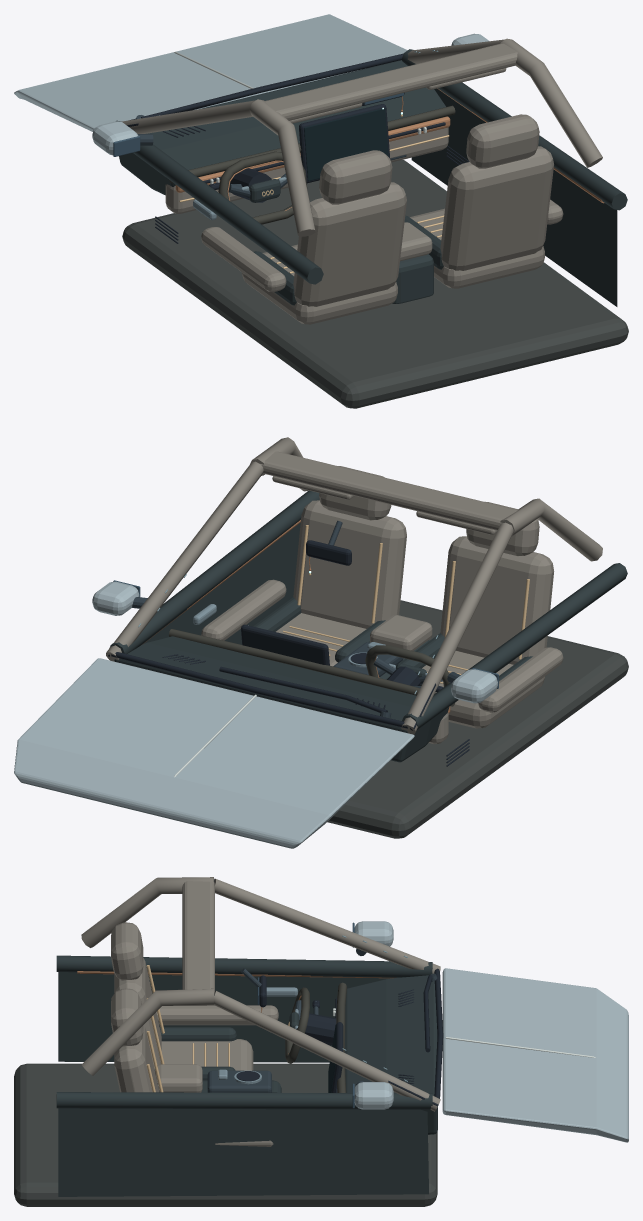
Rendered from cockpit.glb.
3 renders of one model, top to bottom at view 1: azimuth 30°, elevation 25°; view 2: azimuth 150°, elevation 25°; view 3: azimuth 270°, elevation 25°, orthographic. The views are drawn at different scales.
Visible parts, largest first — view 1: 14 · warm shale upholstery, 17 · slate floor carpet, 16 · deep spruce dashboard, 01 · satin rain silver, 04 · graphite rubber, 18 · sleeping LCD, 20 · wheel leather, 13 · cinnamon woven trim, 09 · evening sky on glazing; view 2: 14 · warm shale upholstery, 01 · satin rain silver, 16 · deep spruce dashboard, 17 · slate floor carpet, 04 · graphite rubber, 20 · wheel leather, 15 · wheat stitching, 07 · midnight gunmetal; view 3: 16 · deep spruce dashboard, 01 · satin rain silver, 14 · warm shale upholstery, 17 · slate floor carpet, 04 · graphite rubber, 07 · midnight gunmetal, 20 · wheel leather, 15 · wheat stitching, 02 · lower folded aluminium, 13 · cinnamon woven trim.
Boxes of the visible parts, x1,y1,x2,y2 form: 14 · warm shale upholstery: (121,38,602,324); 17 · slate floor carpet: (122,160,628,408); 16 · deep spruce dashboard: (116,49,627,306); 01 · satin rain silver: (14,14,489,155); 04 · graphite rubber: (127,53,469,243); 18 · sleeping LCD: (304,108,388,181); 20 · wheel leather: (169,105,455,224); 13 · cinnamon woven trim: (175,88,604,210); 09 · evening sky on glazing: (113,93,403,156); 14 · warm shale upholstery: (106,437,602,744); 01 · satin rain silver: (14,581,497,848); 16 · deep spruce dashboard: (109,490,627,762); 17 · slate floor carpet: (327,600,628,838); 04 · graphite rubber: (106,540,469,766); 20 · wheel leather: (169,629,454,706); 15 · wheat stitching: (283,525,529,683); 07 · midnight gunmetal: (132,520,460,717); 16 · deep spruce dashboard: (56,955,437,1196); 01 · satin rain silver: (354,921,628,1142); 14 · warm shale upholstery: (81,877,440,1146); 17 · slate floor carpet: (14,1063,437,1206); 04 · graphite rubber: (214,880,443,1106); 07 · midnight gunmetal: (207,948,437,1092); 20 · wheel leather: (285,982,346,1092); 15 · wheat stitching: (146,965,289,1092); 02 · lower folded aluminium: (218,987,298,1084); 13 · cinnamon woven trim: (77,971,396,1054).
Size of the model in its own units: 2.43 by 1.38 by 3.6.
